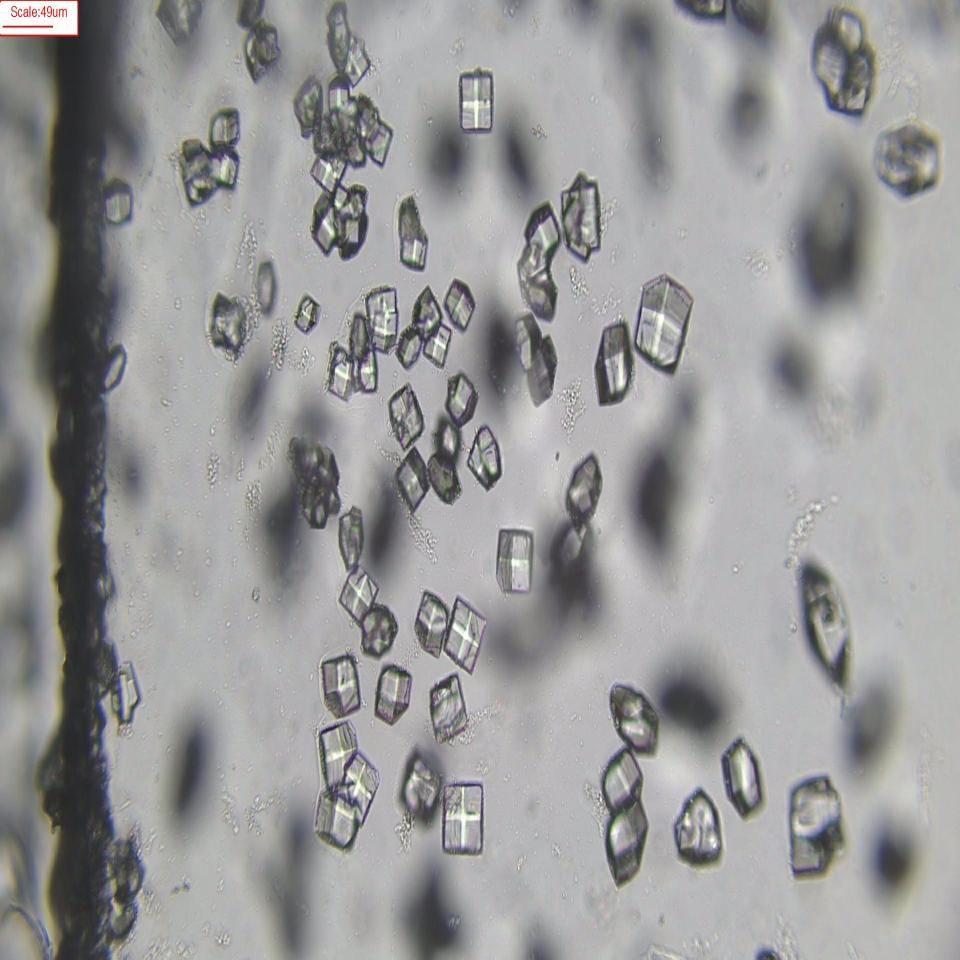crystal: (799, 552, 852, 690), (787, 774, 846, 878), (872, 118, 941, 198), (635, 274, 693, 368), (604, 809, 662, 885), (560, 173, 606, 262), (609, 681, 663, 751), (722, 736, 765, 821), (444, 592, 487, 676), (673, 790, 723, 862), (599, 751, 652, 817), (443, 777, 486, 858), (595, 316, 633, 407), (399, 748, 441, 823), (320, 649, 362, 722), (430, 667, 468, 747), (495, 524, 536, 596), (457, 66, 499, 136), (564, 453, 602, 530), (356, 605, 407, 662), (206, 291, 250, 351), (108, 661, 141, 733), (396, 195, 428, 268), (468, 424, 503, 489), (388, 383, 424, 446), (415, 590, 446, 662), (244, 21, 280, 83), (374, 663, 414, 717), (342, 566, 378, 620), (411, 285, 443, 343), (396, 448, 429, 504), (337, 503, 365, 566), (99, 349, 133, 400), (443, 280, 475, 332), (101, 177, 134, 224), (445, 372, 477, 419), (255, 259, 276, 313), (296, 295, 322, 334)
not_crystal: (810, 8, 878, 118), (313, 734, 378, 846), (331, 294, 399, 398), (174, 104, 243, 199), (286, 432, 342, 523), (520, 196, 557, 324), (311, 179, 367, 260), (327, 1, 370, 83)
